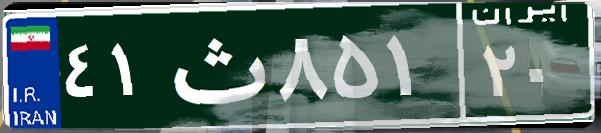0: (525, 38, 570, 115)
1: (385, 28, 445, 110), (110, 28, 158, 105)
2: (475, 38, 525, 113)
4: (57, 26, 110, 107)
5: (330, 28, 385, 110)
8: (273, 28, 330, 110)
ث: (158, 15, 273, 115)
